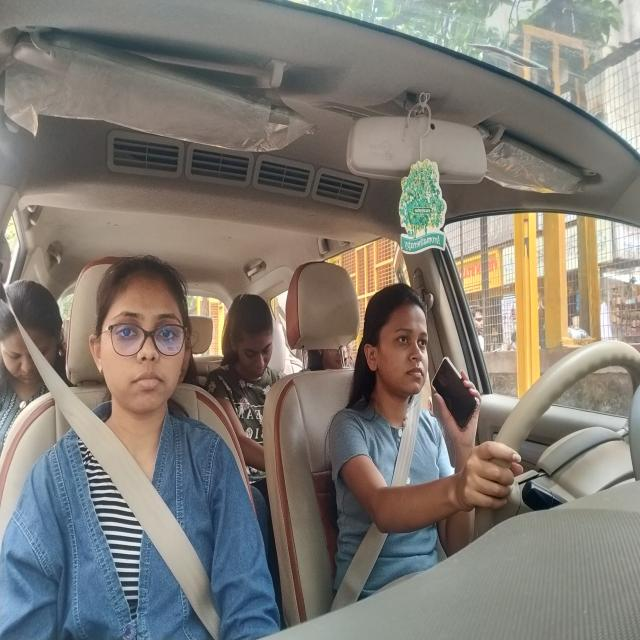mobile: (429, 354, 480, 436)
person: (86, 248, 190, 414), (364, 286, 431, 398), (0, 278, 63, 393), (222, 288, 276, 379), (320, 345, 355, 374)
